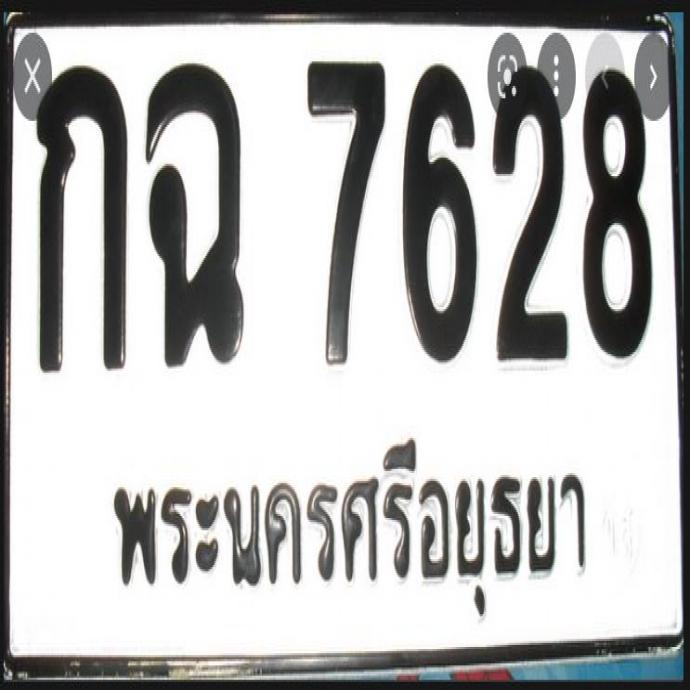2: (479, 38, 577, 362)
6: (391, 56, 492, 364)
7: (299, 54, 392, 367)
8: (565, 53, 654, 360)
A01: (22, 56, 130, 373)
A09: (136, 53, 246, 366)
AYA: (91, 411, 606, 642)
